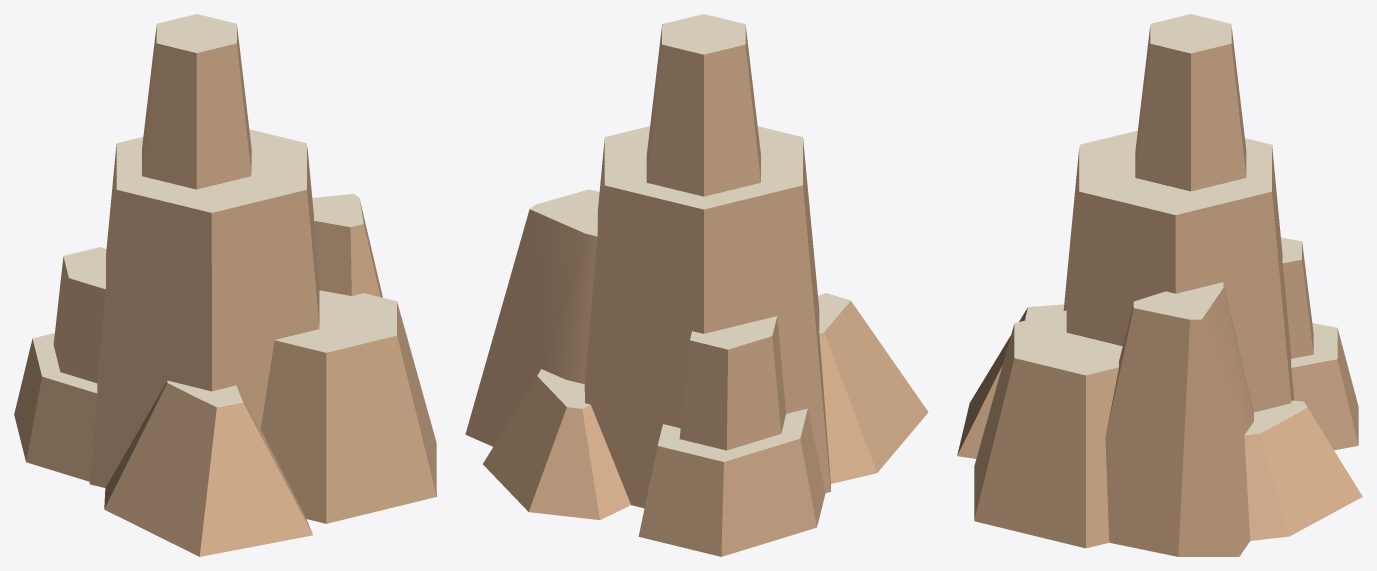
File: formation-rock.glb
3 renders of one model, left to right at view 1: azimuth 30°, elevation 25°; view 2: azimuth 150°, elevation 25°; view 3: azimuth 270°, elevation 25°, orthographic. The views are drawn at different scales.
Parts seen in each view (by area): view 1: formation_rock; view 2: formation_rock; view 3: formation_rock.
Part boxes in pixels (x1,y1,x2,y2): formation_rock: (14,14,436,556); formation_rock: (465,14,928,556); formation_rock: (957,14,1362,556).
Bounding box in the file's own units: 1.06 × 1.22 × 1.07.
